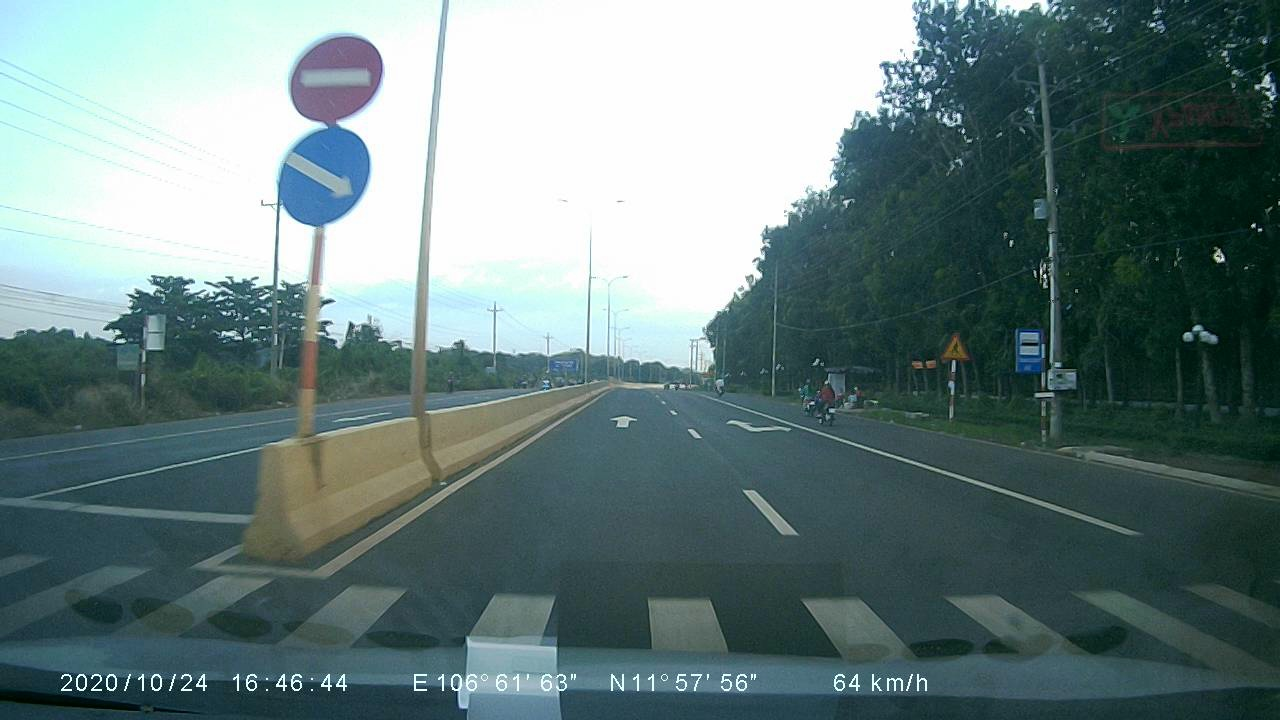Bien khac: (1016, 327, 1044, 374), (939, 331, 971, 361)
Cam di nguoc chieu: (282, 25, 386, 120)
Huong di phai re phai: (274, 127, 379, 228)
